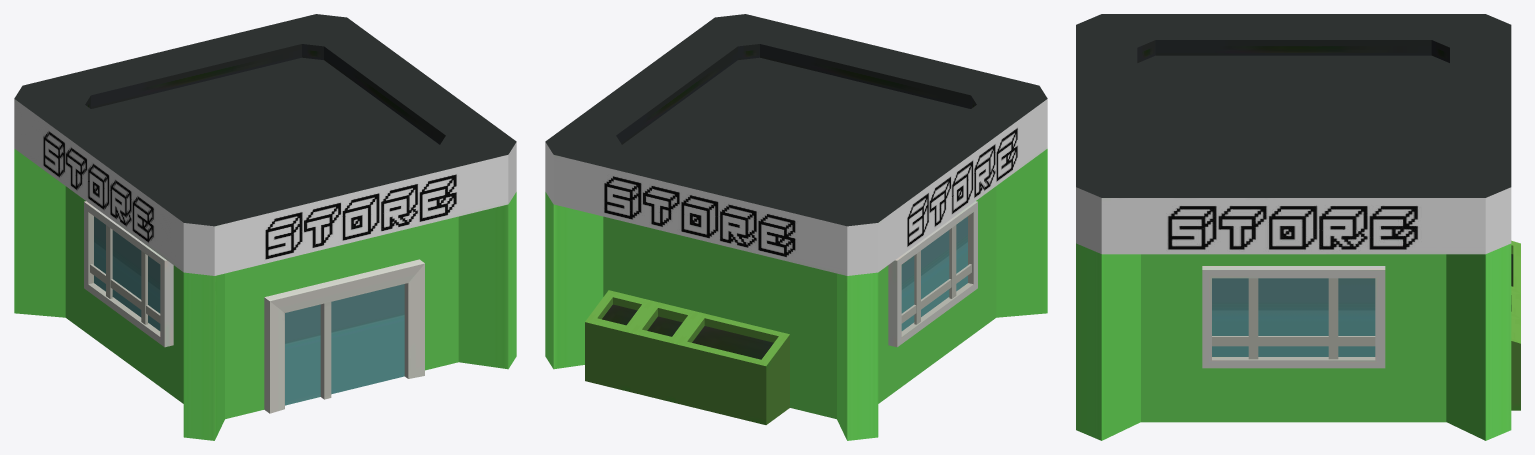
Rendered from drugstore_2.glb.
3 renders of one model, left to right at view 1: azimuth 30°, elevation 25°; view 2: azimuth 150°, elevation 25°; view 3: azimuth 270°, elevation 25°, orthographic. The views are drawn at different scales.
Visible parts, largest first — view 1: Basic Store; view 2: Basic Store; view 3: Basic Store.
Part boxes in pixels (box(x1,y1,x2,y2)): Basic Store: box(14, 14, 516, 440); Basic Store: box(545, 14, 1047, 440); Basic Store: box(1076, 14, 1520, 440).
Size of the model in its own units: 0.7358 by 0.4533 by 0.7519.
Materials: 1 (1 with a texture image).
